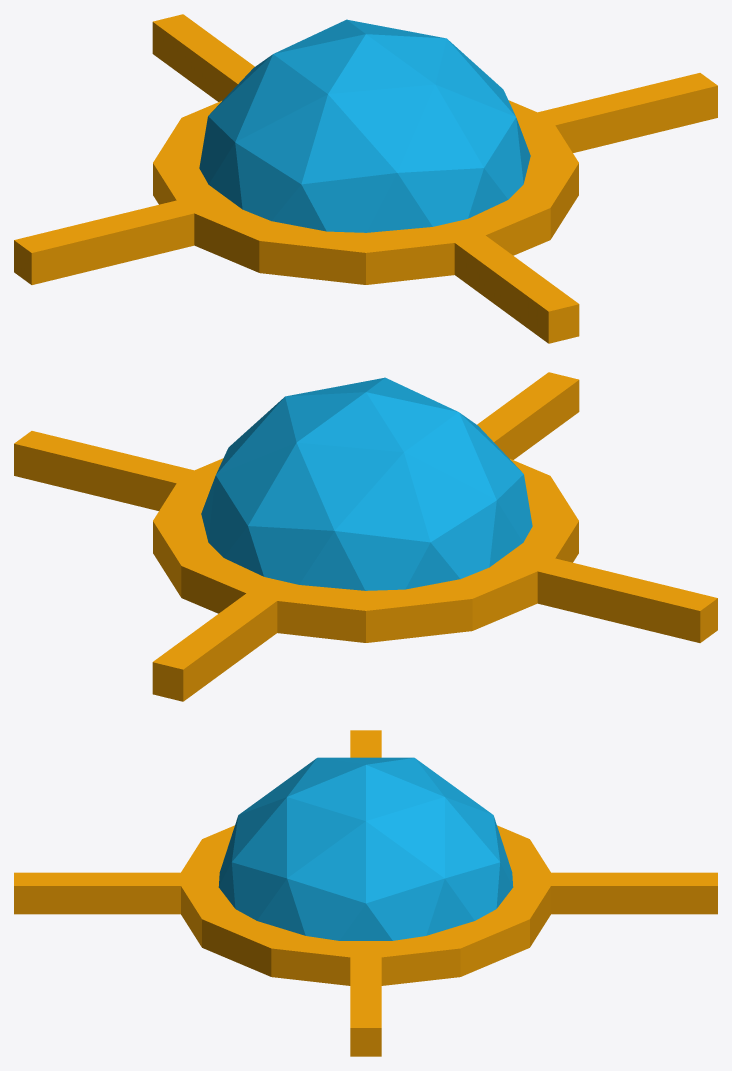
File: Space_HQ_Lvl_1.fbx
3 views of the same model, one above another, from view 1: azimuth 30°, elevation 25°; view 2: azimuth 150°, elevation 25°; view 3: azimuth 270°, elevation 25° (orthographic). The views are drawn at different scales.
Visible parts, largest first — view 1: Icosphere; view 2: Icosphere; view 3: Icosphere.
Boxes of the visible parts, x1,y1,x2,y2 form: Icosphere: [14, 14, 717, 343]; Icosphere: [14, 372, 717, 701]; Icosphere: [14, 730, 717, 1056].
Size of the model in its own units: 223 by 50 by 223.
